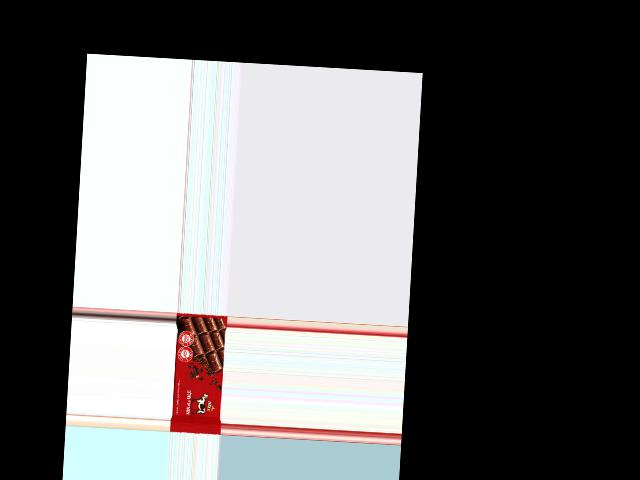chocolate: (169, 314, 226, 435)
